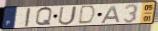3: (122, 3, 140, 24)
A: (100, 5, 122, 24)
D: (77, 5, 97, 25)
I: (24, 8, 32, 28)
Q: (34, 7, 54, 28)
U: (57, 5, 79, 26)
